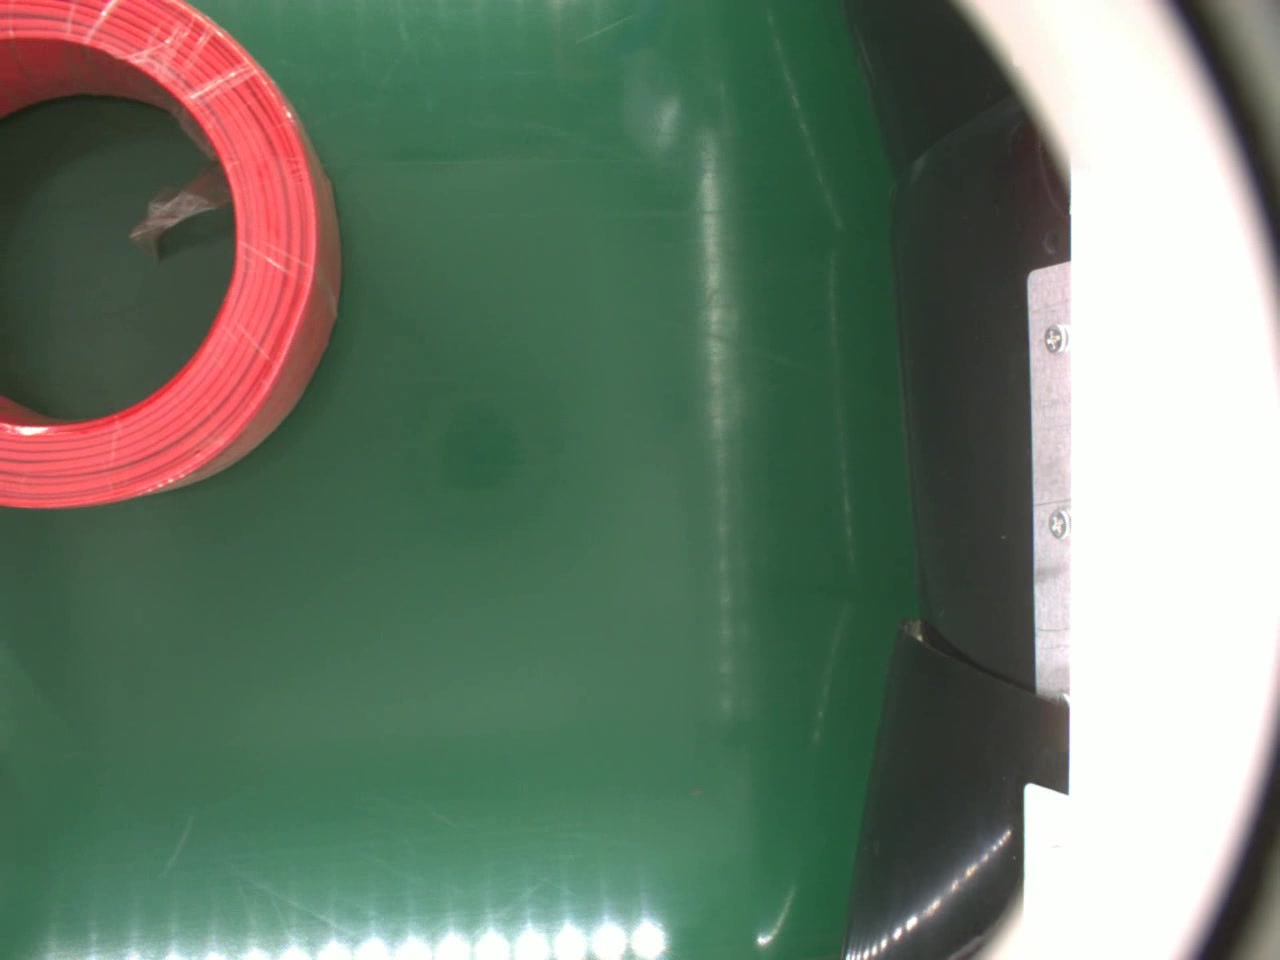red: (0, 0, 348, 513)
